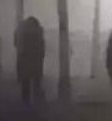person: (13, 16, 49, 102)
